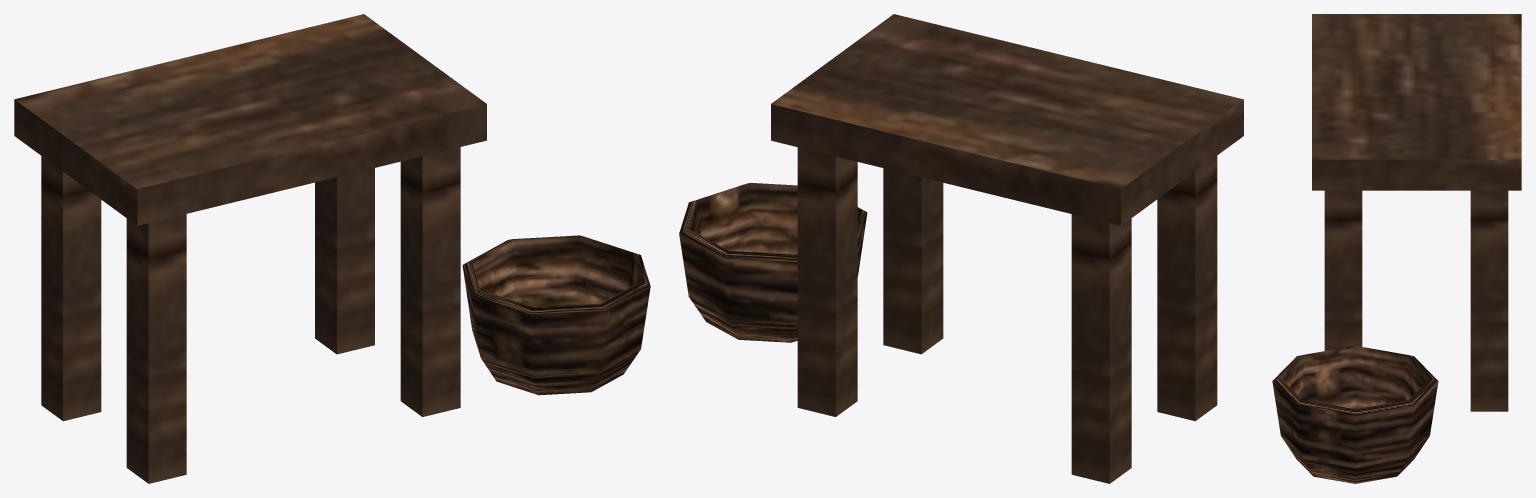
Rendered from periodSeat.glb.
The picture shows the model from 3 angles, left to right: view 1: azimuth 30°, elevation 25°; view 2: azimuth 150°, elevation 25°; view 3: azimuth 270°, elevation 25°; orthographic projection. The views are drawn at different scales.
Visible parts, largest first — view 1: part_1, part_0; view 2: part_1, part_0; view 3: part_1, part_0.
Part boxes in pixels (box(x1,y1,x2,y2)): part_1: box(14, 14, 486, 483); part_0: box(462, 235, 650, 395); part_1: box(771, 14, 1243, 483); part_0: box(679, 183, 867, 342); part_1: box(1312, 14, 1521, 411); part_0: box(1272, 345, 1438, 483).
Bounding box in the file's own units: 0.696 × 0.383 × 0.333.
Materials: 2 (2 with a texture image).
